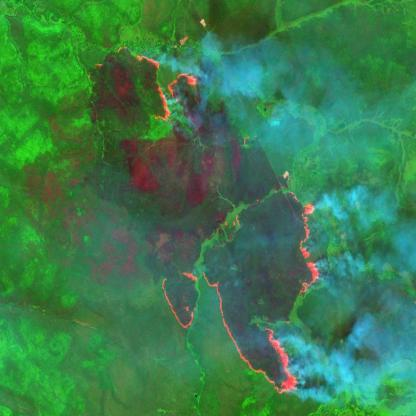fire: (158, 186, 327, 394), (92, 43, 199, 121)
